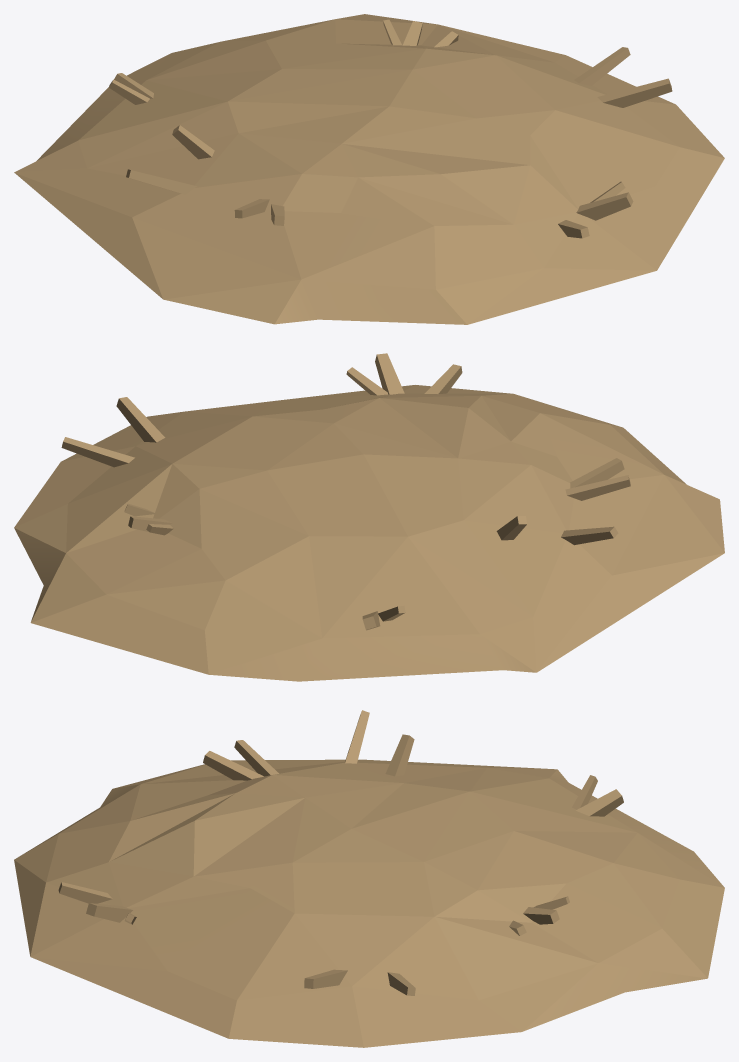
The model's file is kingdom_SM_Prop_Hay_Pile_02.gltf.
The picture shows the model from 3 angles, top to bottom: view 1: azimuth 30°, elevation 25°; view 2: azimuth 150°, elevation 25°; view 3: azimuth 270°, elevation 25°; orthographic projection.
Parts seen in each view (by area): view 1: SM_Prop_Hay_Pile_02; view 2: SM_Prop_Hay_Pile_02; view 3: SM_Prop_Hay_Pile_02.
Part boxes in pixels (bbox=[...]): SM_Prop_Hay_Pile_02: bbox=[14, 14, 724, 324]; SM_Prop_Hay_Pile_02: bbox=[14, 353, 724, 681]; SM_Prop_Hay_Pile_02: bbox=[14, 710, 724, 1047].
Bounding box in the file's own units: 2.65 × 0.3414 × 2.77.
Materials: 1 (1 with a texture image).
